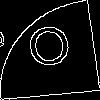O: (25, 25, 74, 76)
